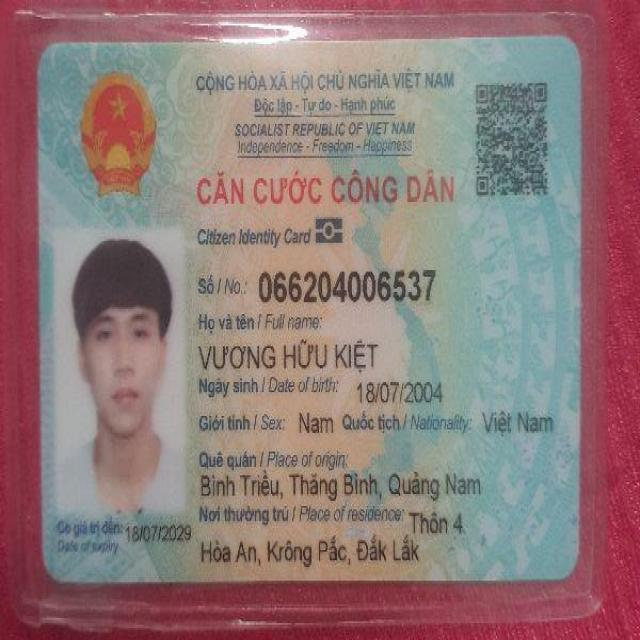current_place: (198, 531, 421, 570), (407, 505, 463, 536)
dob: (355, 379, 451, 407)
expire_date: (123, 522, 192, 546)
gender: (293, 406, 339, 441)
id: (256, 264, 436, 306)
name: (195, 339, 389, 376)
nationality: (476, 403, 560, 439)
origin_place: (201, 468, 482, 505)
